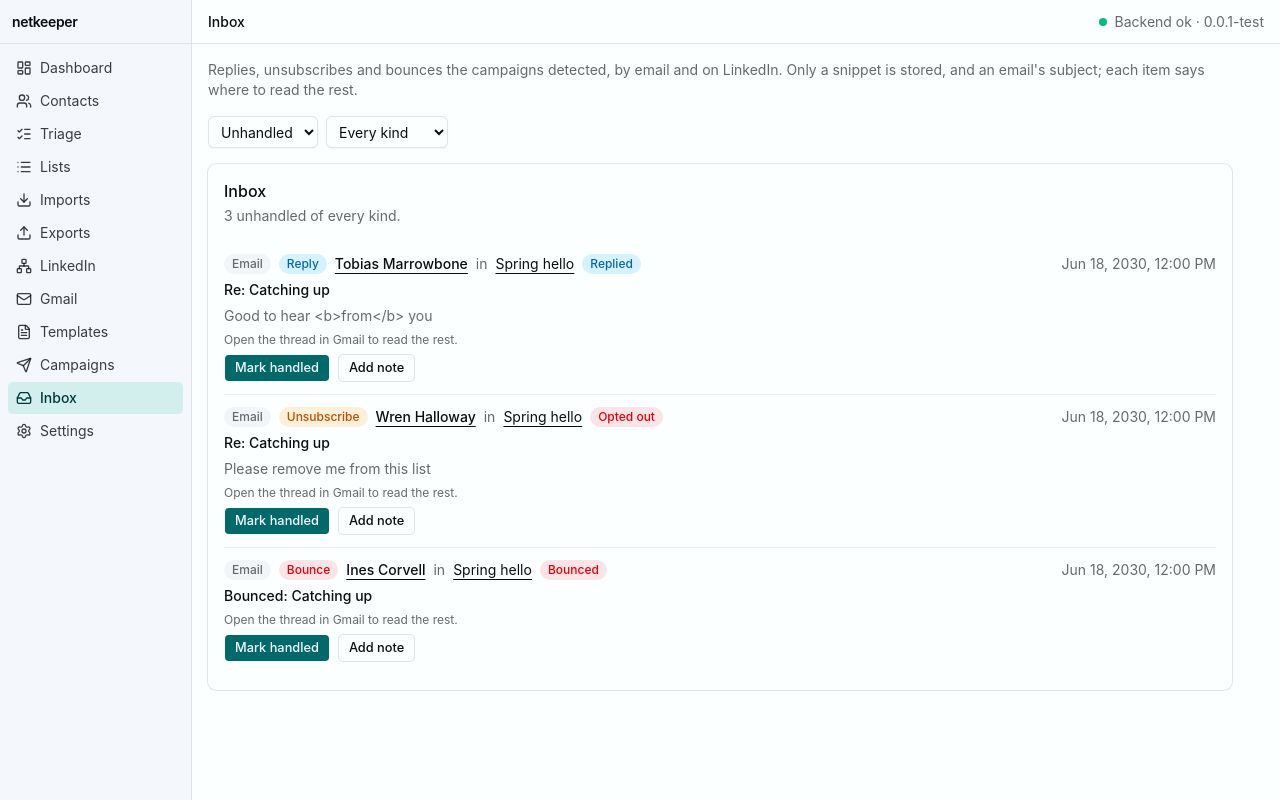
Scenario: inbox › says nothing matches the filters, not that the inbox is empty
Check: the navigation bar named "Primary" is shown, box x1=0 y1=44 x2=191 y2=455
Check: the list item with aria-label "Reply from Tobias" is shown, box x1=224 y1=242 x2=1216 y2=394
Select "Unsubscribe" in the dropdown named "Kind". click: (387, 132)
box: x1=326 y1=116 x2=448 y2=148
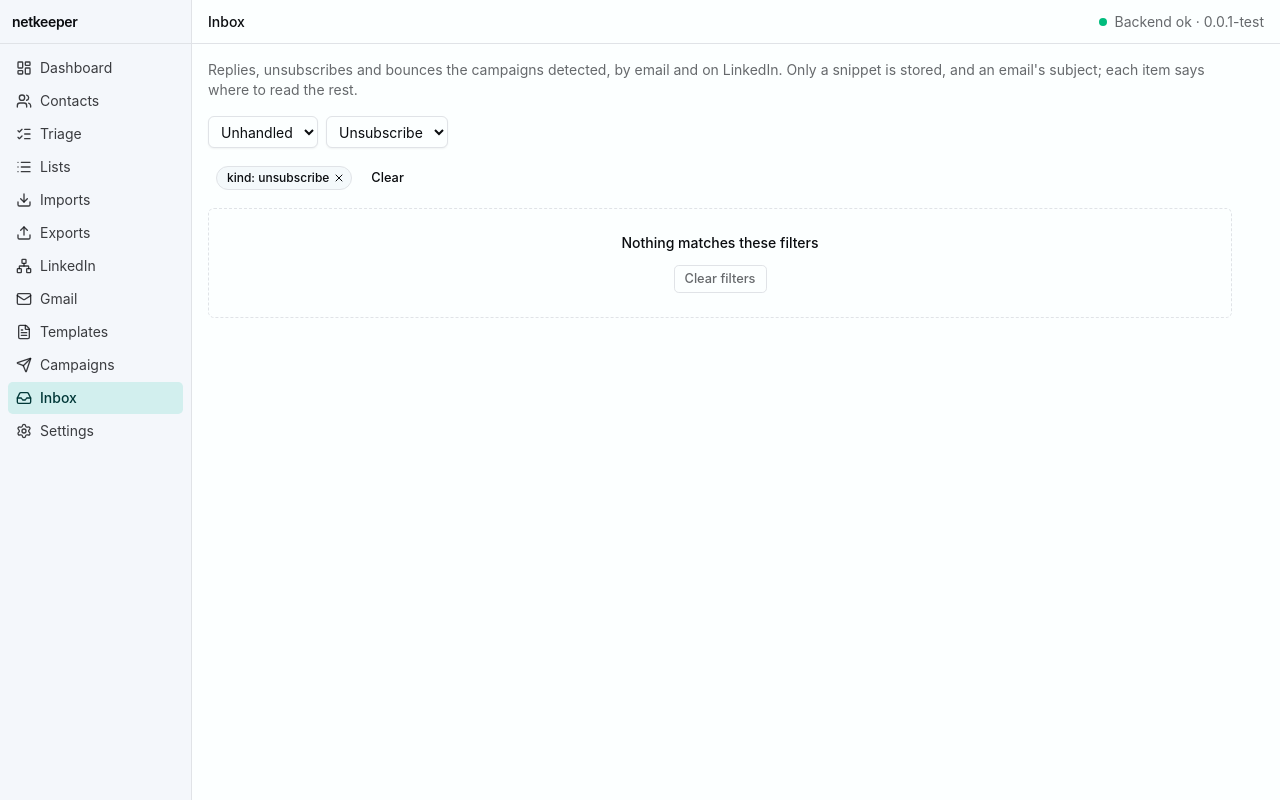
Check: the text "Nothing matches these filters" is shown, box x1=622 y1=234 x2=818 y2=251
Click the button "Clear filters". click: (720, 279)
box: x1=674 y1=265 x2=766 y2=293
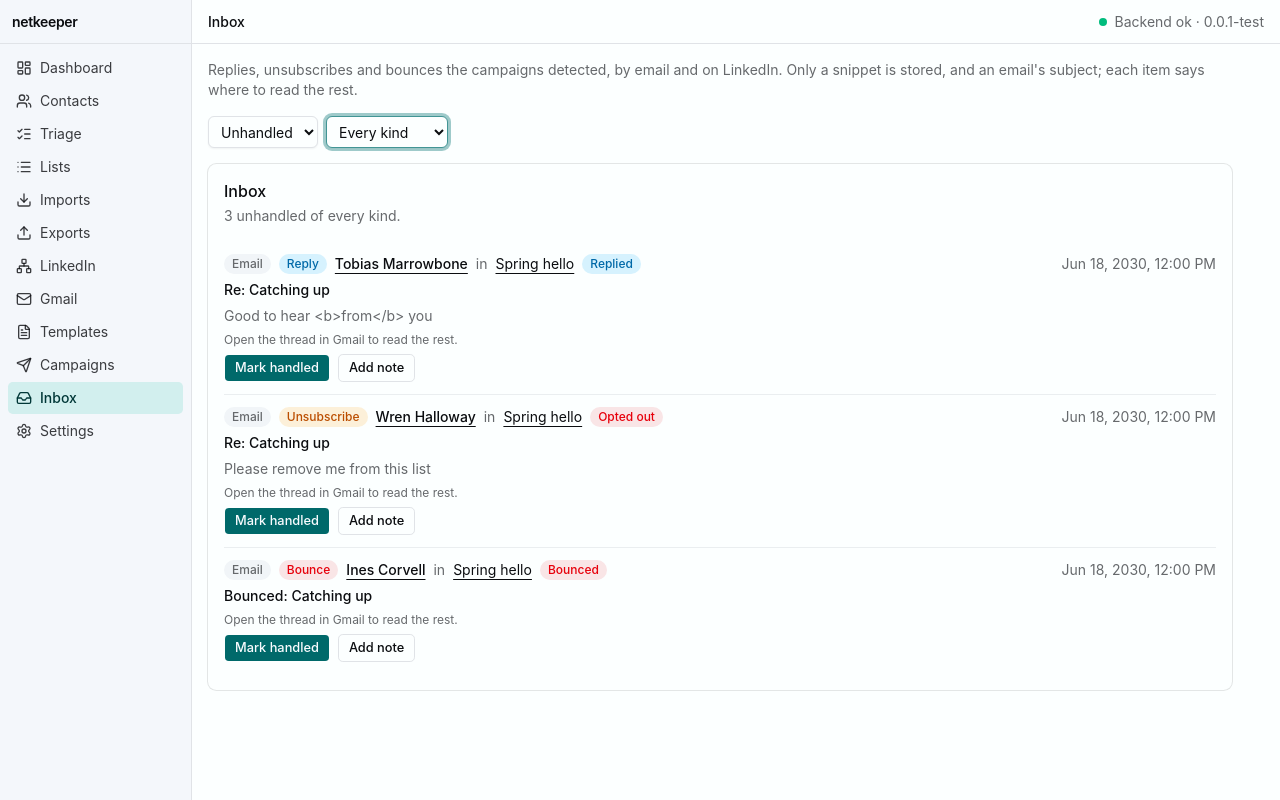
Check: the list item with aria-label "Reply from Tobias" is shown, box x1=224 y1=242 x2=1216 y2=394
